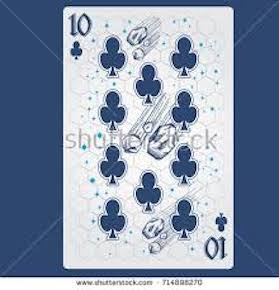TenOfClubs: (60, 4, 237, 270)
